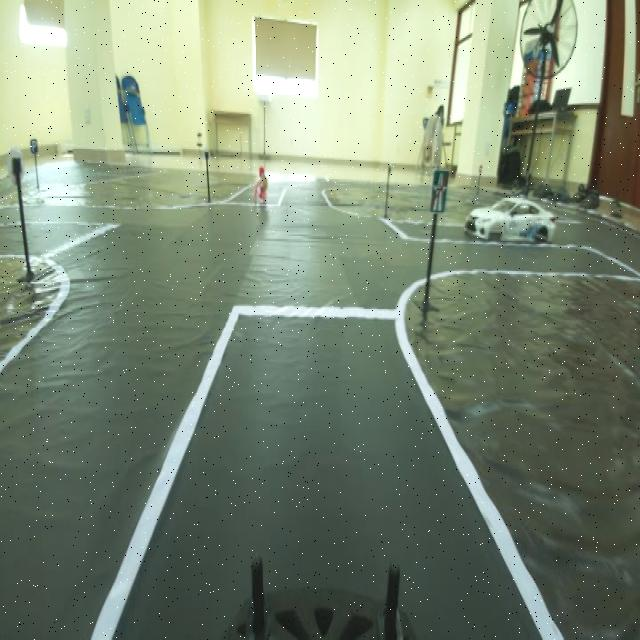highway_exit: (428, 160, 450, 214)
